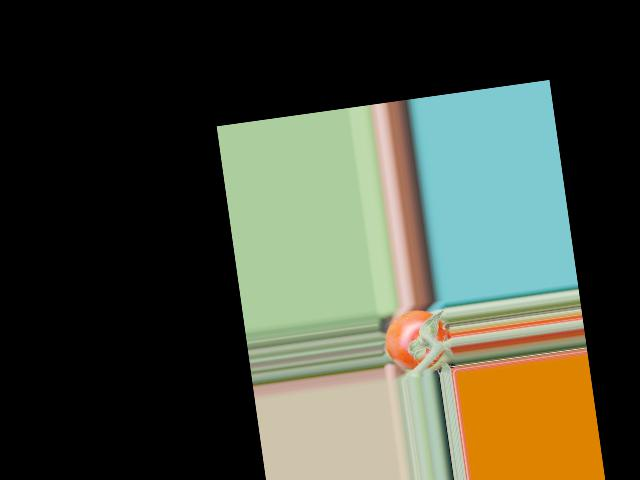tomato: (382, 305, 454, 374)
